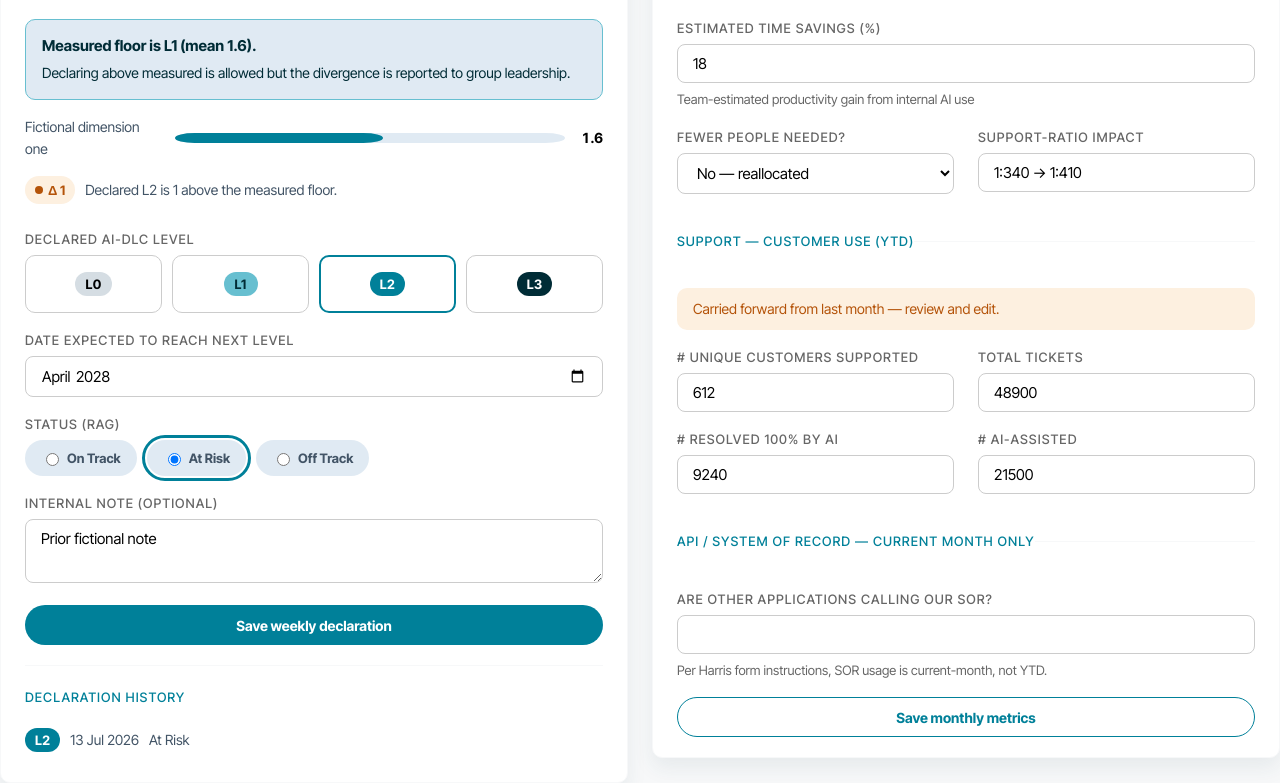
Test case: BuFormsScreen (HAP-15; FR-047/FR-048; bu-forms mockup) › posts monthly metrics on the happy path
(page scrolled)
Type "Yes — 2 fictional consumers" into the field labelled "Are other applications calling our SOR?".
click(966, 634); type("Yes — 2 fictional consumers")  # box [677,615,1255,654]
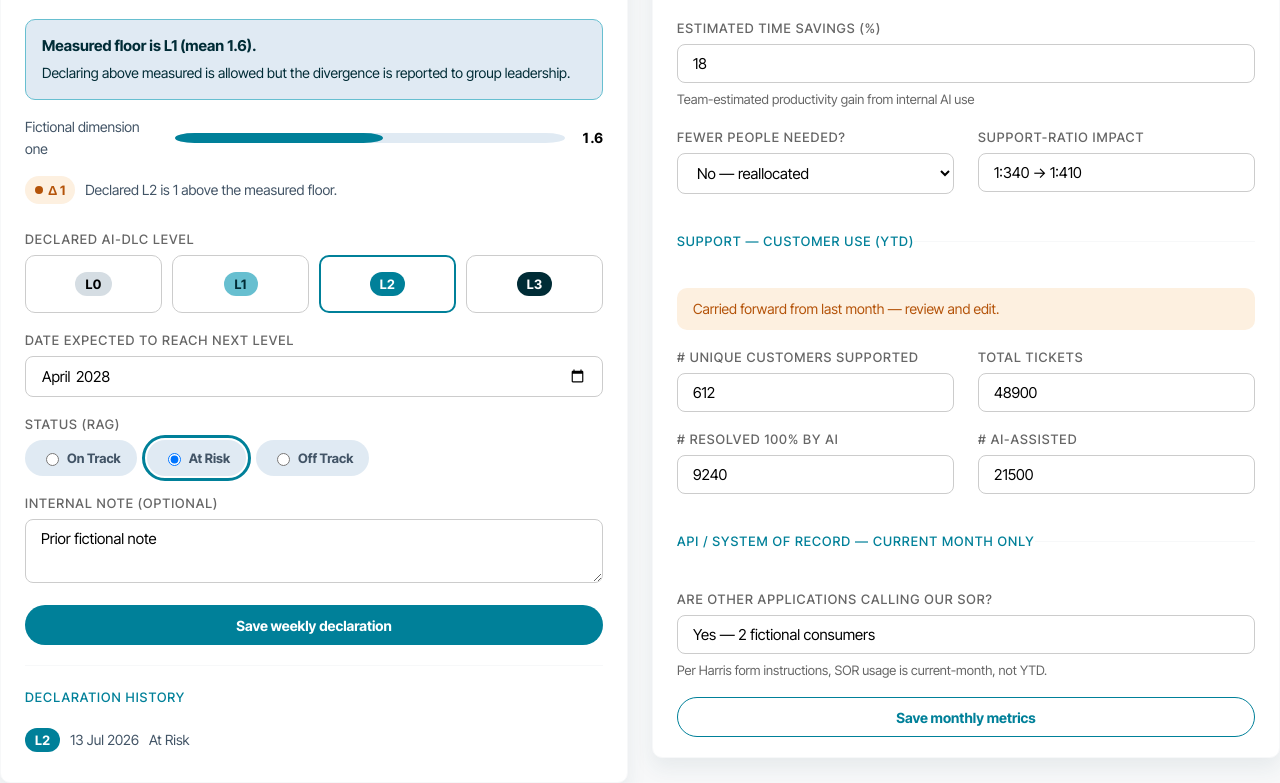
Click the button "Save monthly metrics".
click(966, 717)  # box [677,697,1255,737]
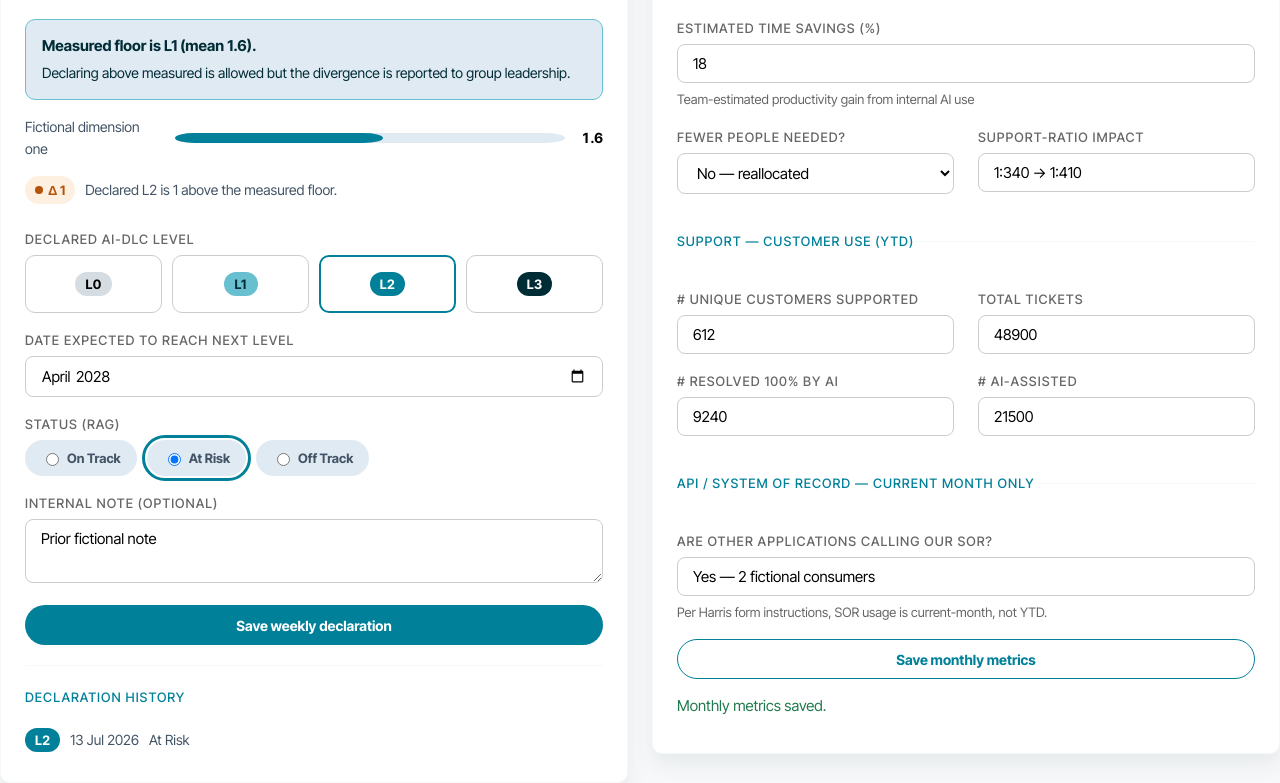
Now the text "Monthly metrics saved." is shown, box [677,696,826,715]
